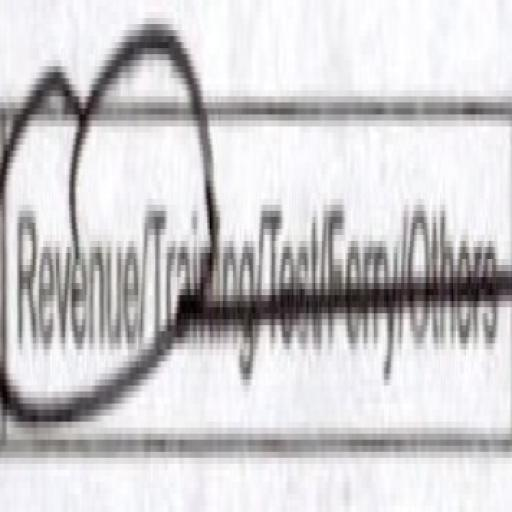check: (0, 14, 146, 511)
